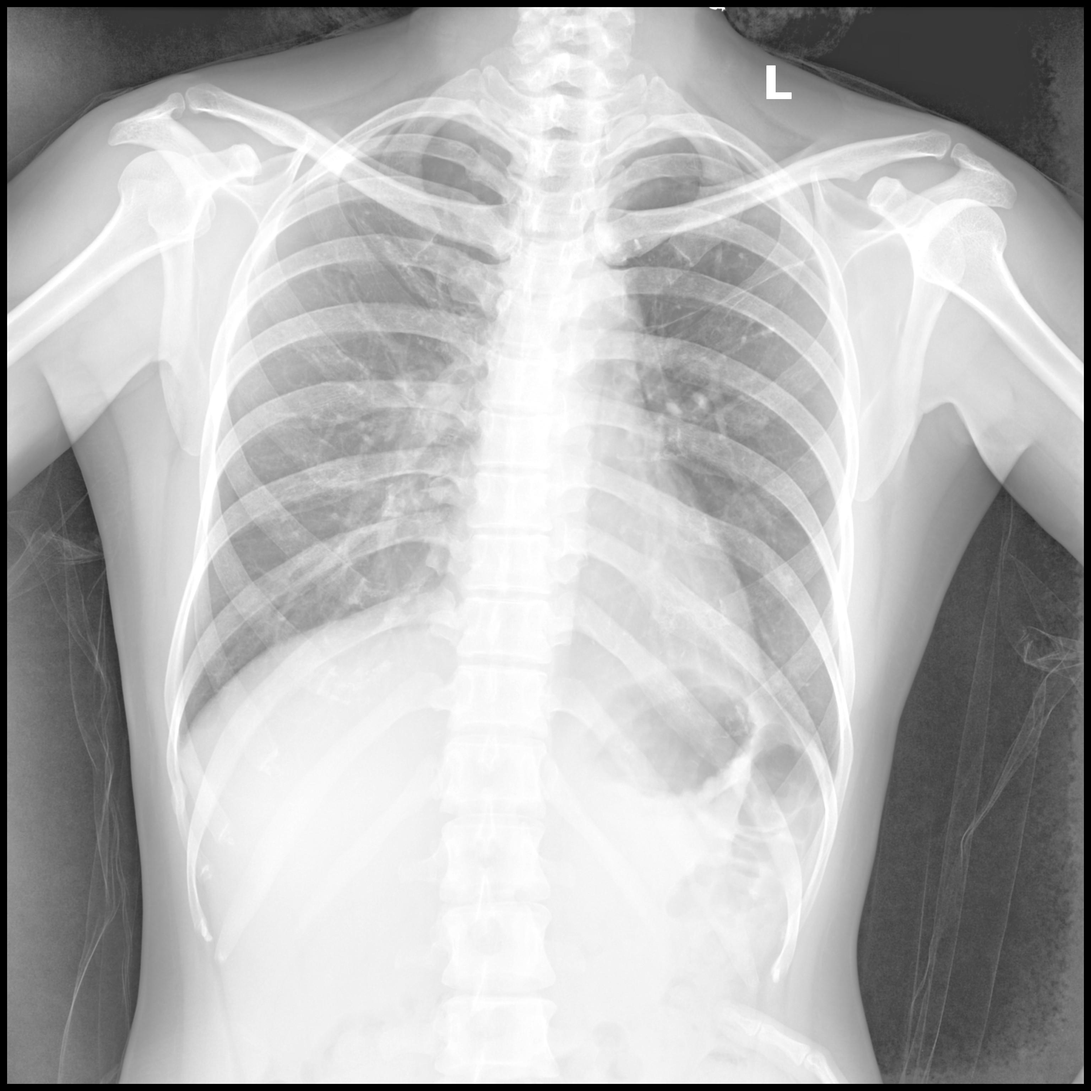Pulmonary fibrosis: (339, 189, 489, 439), (643, 251, 819, 332)
